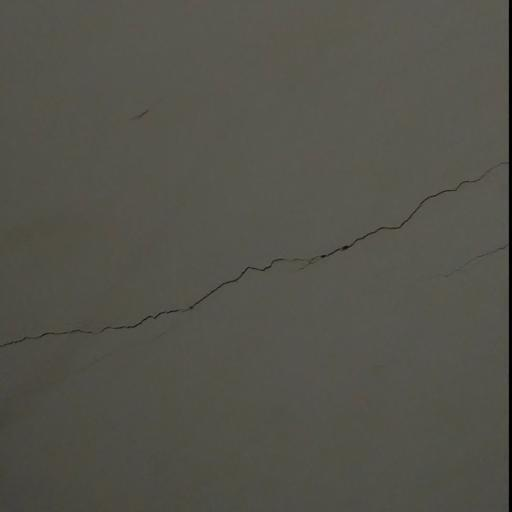major_crack: (1, 146, 510, 354)
